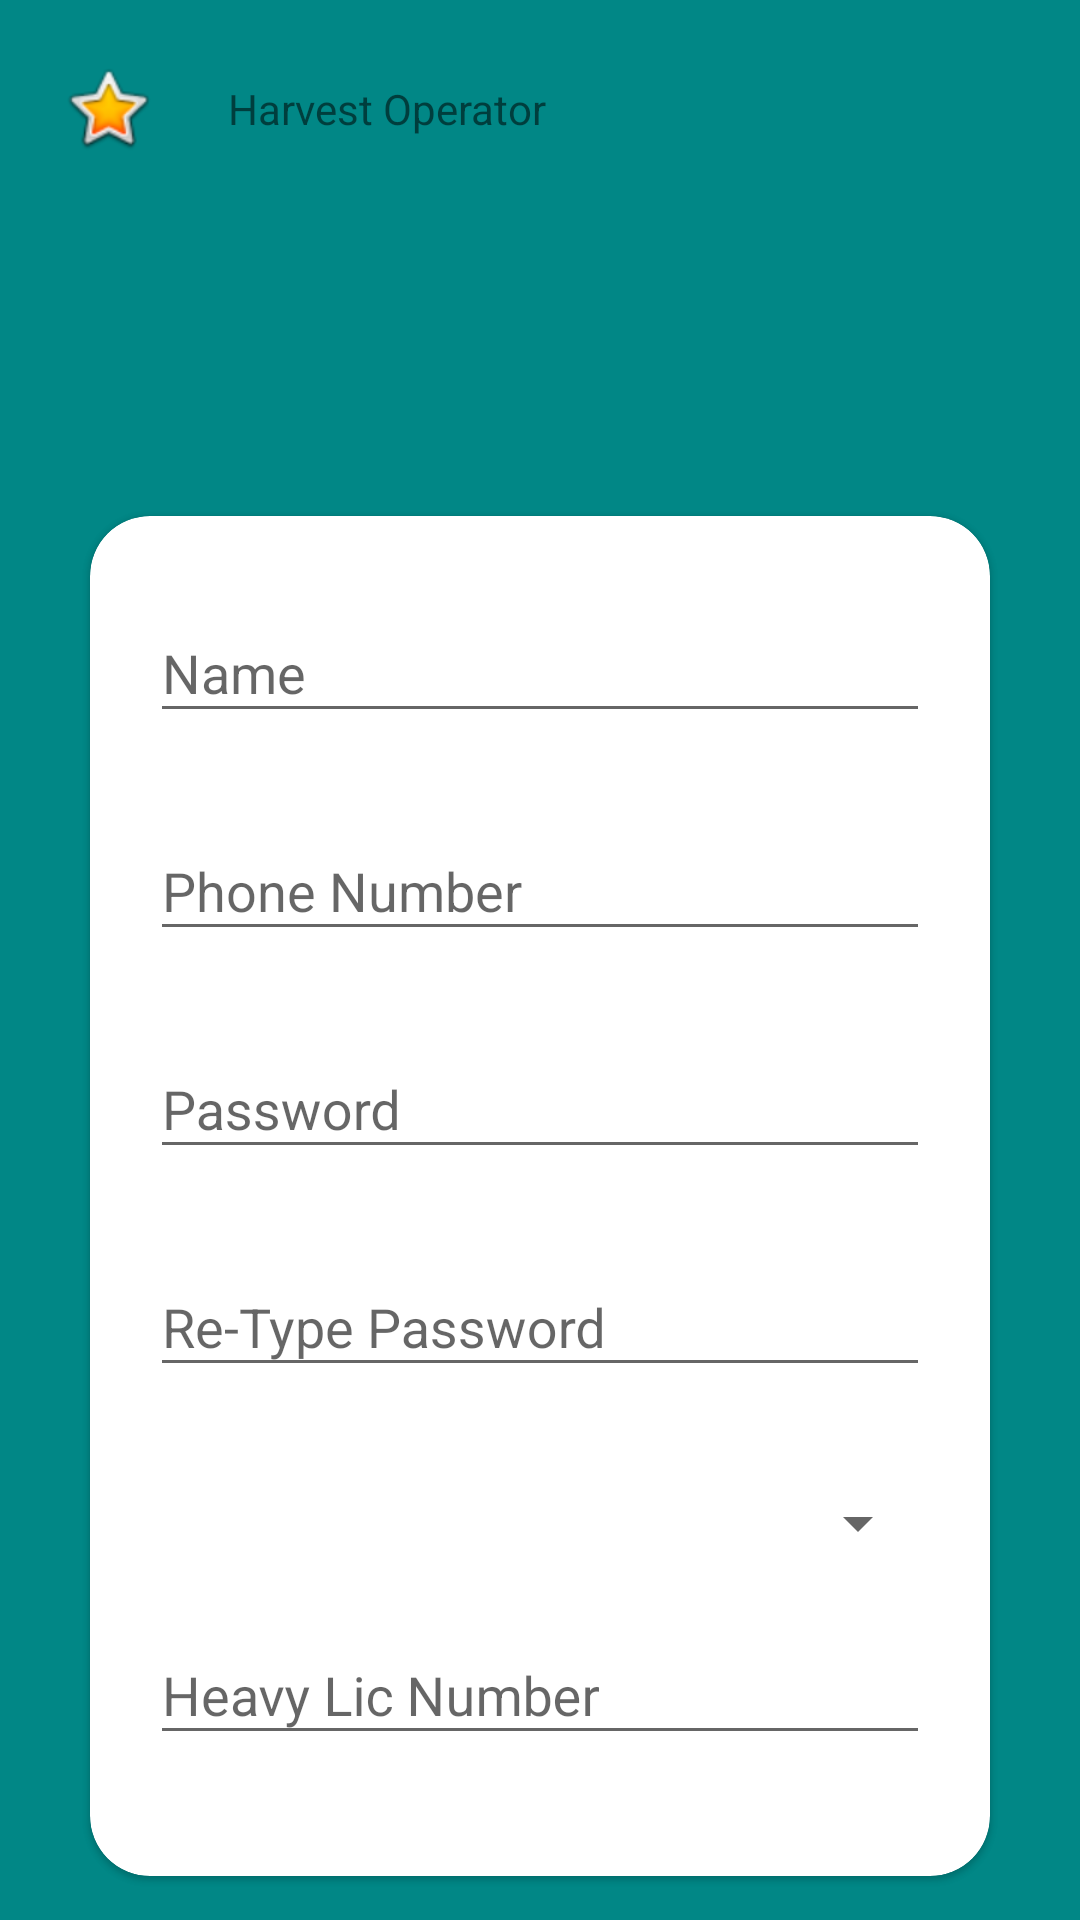

Locate icon controls on the screen. Image size 1080 x 1920, boxes as (x1, y1, x2, y2).
star on: (70, 71, 148, 147)
